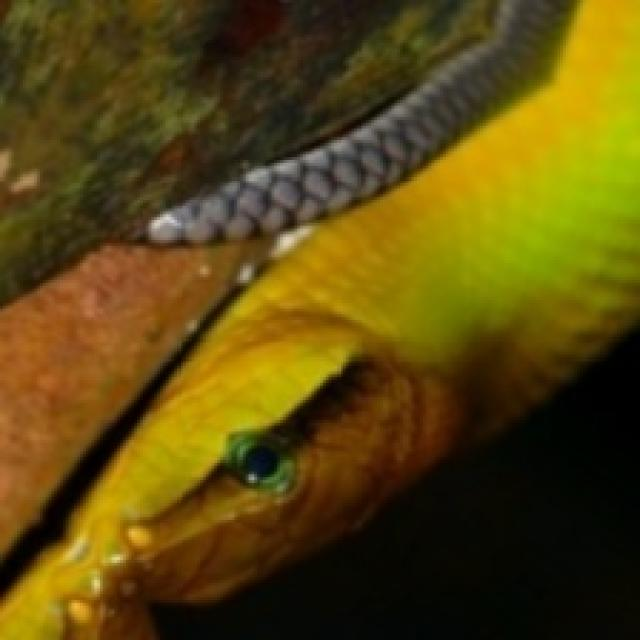red-tailed green ratsnake: (0, 0, 640, 640), (0, 0, 637, 637)
